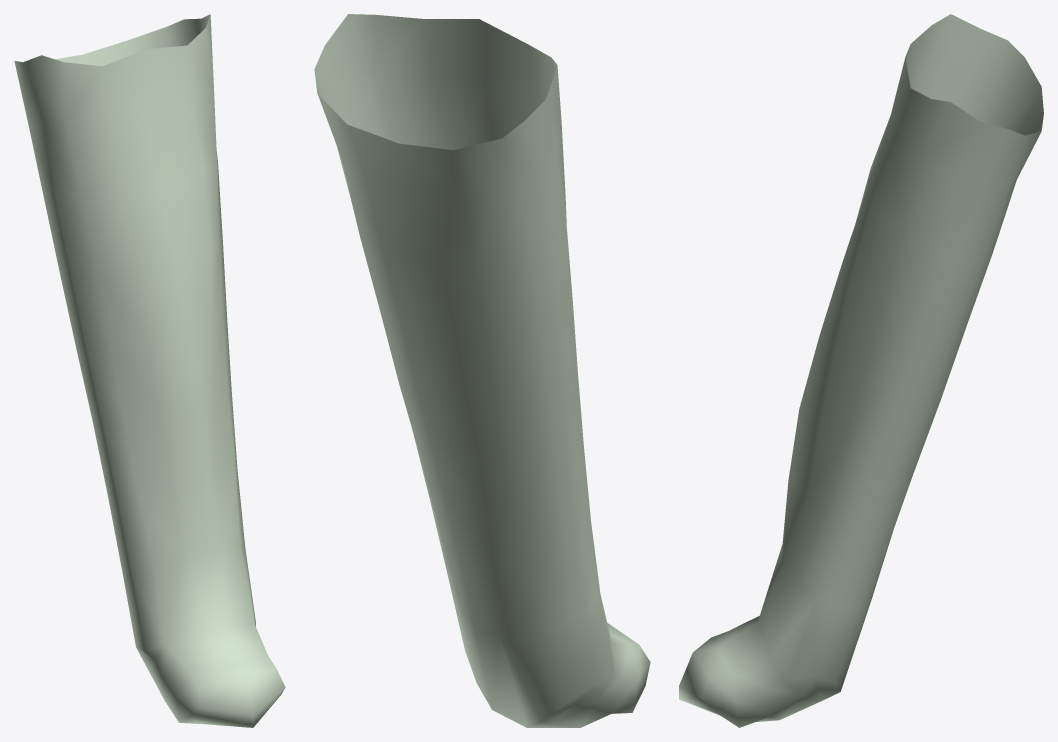
Rendered from egyptian_beard_pharao_long.dae.
3 views of the same model, side by side, from view 1: azimuth 30°, elevation 25°; view 2: azimuth 150°, elevation 25°; view 3: azimuth 270°, elevation 25° (orthographic). The views are drawn at different scales.
Parts seen in each view (by area): view 1: beard_pharao_long; view 2: beard_pharao_long; view 3: beard_pharao_long.
Part boxes in pixels (<box>): beard_pharao_long: <box>14,14,285,727</box>; beard_pharao_long: <box>314,14,650,727</box>; beard_pharao_long: <box>679,14,1043,727</box>.
Size of the model in its own units: 0.1766 by 0.2926 by 0.5855.
